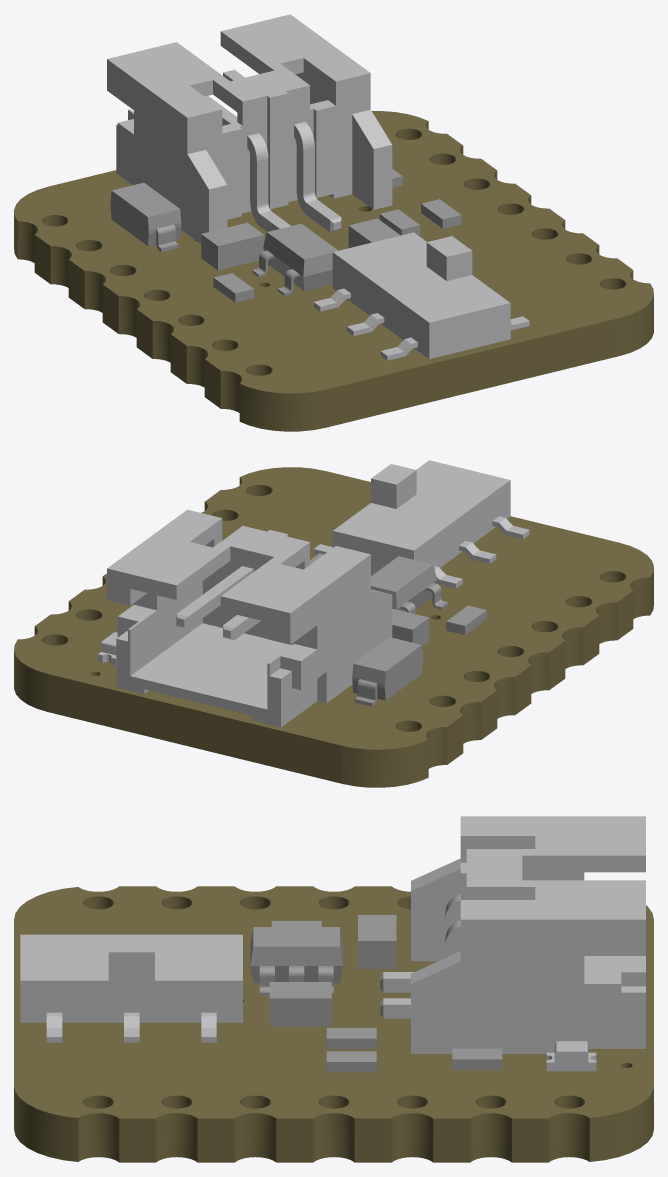
Rendered from ada-5397.glb.
3 views of the same model, one above another, from view 1: azimuth 30°, elevation 25°; view 2: azimuth 150°, elevation 25°; view 3: azimuth 270°, elevation 25° (orthographic). The views are drawn at different scales.
Visible parts, largest first — view 1: 0.16666666666666666_0.16666666666666666_0.08333333333333333_, 0.5833333333333334_0.5833333333333334_0.5833333333333334_0.8, 0.3333333333333333_0.3333333333333333_0.3333333333333333_0; view 2: 0.16666666666666666_0.16666666666666666_0.08333333333333333_, 0.5833333333333334_0.5833333333333334_0.5833333333333334_0.8, 0.3333333333333333_0.3333333333333333_0.3333333333333333_0; view 3: 0.16666666666666666_0.16666666666666666_0.08333333333333333_, 0.5833333333333334_0.5833333333333334_0.5833333333333334_0.8, 0.3333333333333333_0.3333333333333333_0.3333333333333333_0.
Part boxes in pixels (x1,y1,x2,y2): 0.16666666666666666_0.16666666666666666_0.08333333333333333_: (14, 111, 653, 431); 0.5833333333333334_0.5833333333333334_0.5833333333333334_0.8: (107, 14, 529, 360); 0.3333333333333333_0.3333333333333333_0.3333333333333333_0: (110, 169, 461, 302); 0.16666666666666666_0.16666666666666666_0.08333333333333333_: (14, 467, 653, 787); 0.5833333333333334_0.5833333333333334_0.5833333333333334_0.8: (97, 460, 529, 727); 0.3333333333333333_0.3333333333333333_0.3333333333333333_0: (310, 553, 486, 706); 0.16666666666666666_0.16666666666666666_0.08333333333333333_: (14, 886, 653, 1162); 0.5833333333333334_0.5833333333333334_0.5833333333333334_0.8: (20, 816, 645, 1071); 0.3333333333333333_0.3333333333333333_0.3333333333333333_0: (250, 915, 502, 1072).
Bounding box in the file's own units: 1.78 × 0.637 × 2.07.
